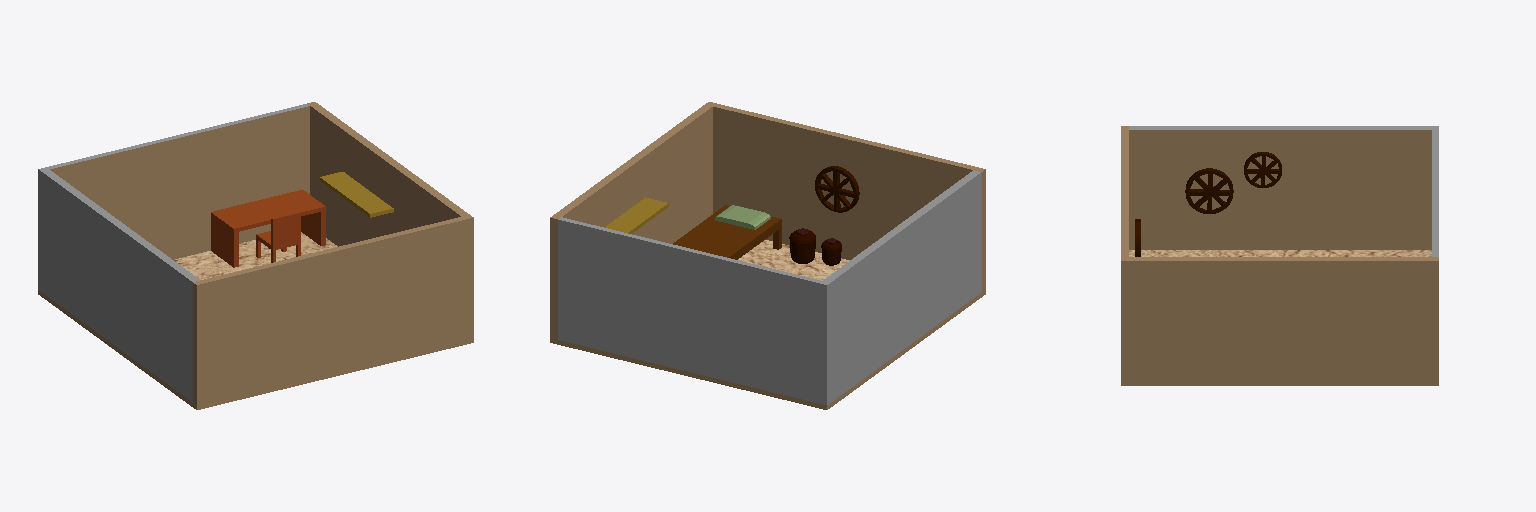
3 renders of one model, left to right at view 1: azimuth 30°, elevation 25°; view 2: azimuth 150°, elevation 25°; view 3: azimuth 270°, elevation 25°, orthographic.
Visible parts, largest first — view 1: Cube, Cube.005, Cube.003, Cube.004; view 2: Cube, Cube.002, Cylinder, Cube.003, Cylinder.005_Cylinder.006; view 3: Cube, Cylinder.001_Cylinder.002, Cylinder.002_Cylinder.001.
Part boxes in pixels (bbox=[...]): Cube: bbox=[38, 102, 473, 409]; Cube.005: bbox=[211, 190, 325, 267]; Cube.003: bbox=[320, 172, 393, 217]; Cube.004: bbox=[256, 211, 300, 262]; Cube: bbox=[550, 102, 985, 409]; Cube.002: bbox=[673, 205, 781, 259]; Cylinder: bbox=[815, 166, 859, 212]; Cube.003: bbox=[604, 197, 668, 233]; Cylinder.005_Cylinder.006: bbox=[789, 228, 815, 263]; Cube: bbox=[1121, 126, 1438, 385]; Cylinder.001_Cylinder.002: bbox=[1185, 168, 1233, 213]; Cylinder.002_Cylinder.001: bbox=[1244, 152, 1281, 187].
Bounding box in the file's own units: 36.99 × 15.99 × 36.67.
16 materials, 1 textured.